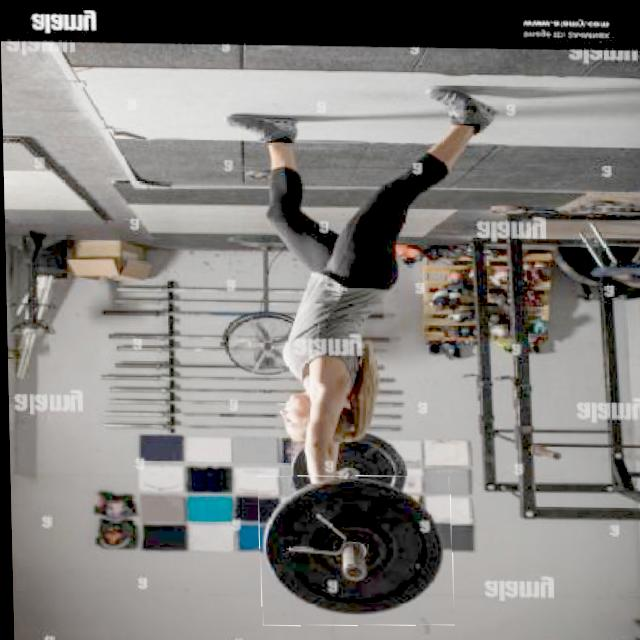barbell: (257, 474, 452, 627)
